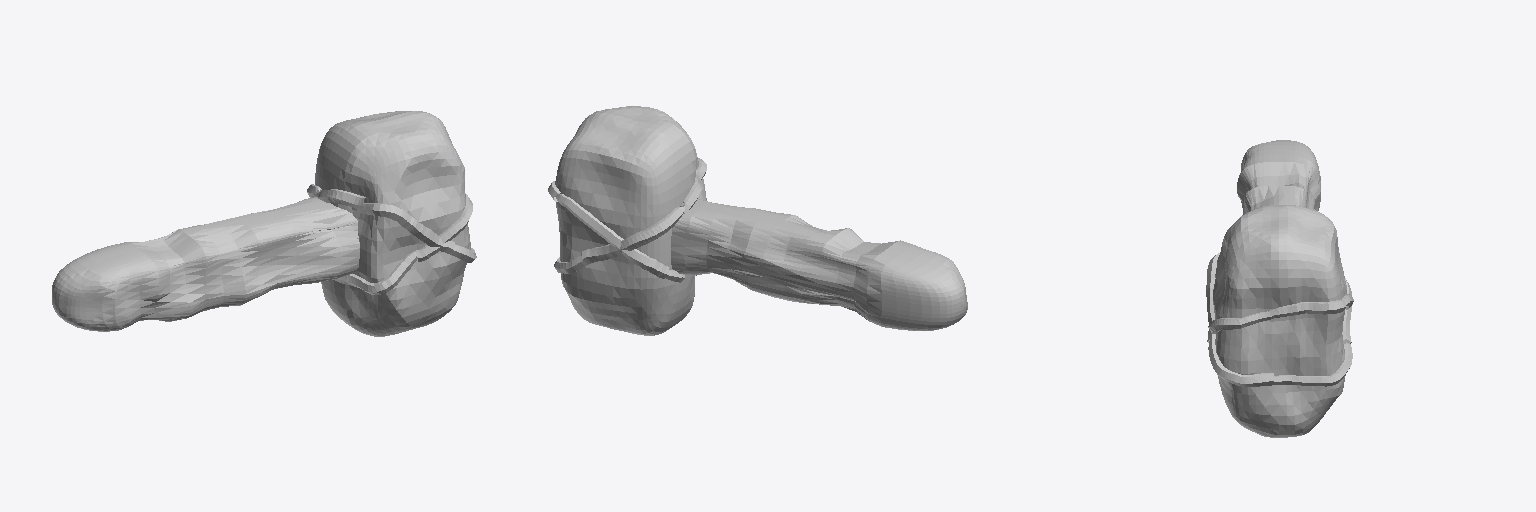
File: hammer.obj
The picture shows the model from 3 angles: view 1: azimuth 30°, elevation 25°; view 2: azimuth 150°, elevation 25°; view 3: azimuth 270°, elevation 25°; orthographic projection.
Parts seen in each view (by area): view 1: hammer pCube11, pCube10 hammer, hammer brush9Main, hammer brush3Main, hammer brush2Main, hammer brush8Main; view 2: pCube10 hammer, hammer pCube11, hammer brush5Main, hammer brush7Main; view 3: pCube10 hammer, hammer pCube11, hammer brush11Main, hammer brush10Main, hammer brush4Main, hammer brush2Main, hammer brush9Main.
Boxes of the visible parts, x1=… form: hammer pCube11: x1=52, y1=197, x2=359, y2=331; pCube10 hammer: x1=315, y1=111, x2=470, y2=336; hammer brush9Main: x1=352, y1=203, x2=454, y2=253; hammer brush3Main: x1=335, y1=250, x2=418, y2=294; hammer brush2Main: x1=416, y1=193, x2=472, y2=261; hammer brush8Main: x1=318, y1=189, x2=365, y2=208; pCube10 hammer: x1=555, y1=106, x2=706, y2=335; hammer pCube11: x1=671, y1=199, x2=967, y2=330; hammer brush5Main: x1=555, y1=193, x2=669, y2=278; hammer brush7Main: x1=581, y1=202, x2=684, y2=262; pCube10 hammer: x1=1213, y1=205, x2=1346, y2=437; hammer pCube11: x1=1237, y1=140, x2=1320, y2=214; hammer brush11Main: x1=1274, y1=343, x2=1352, y2=386; hammer brush10Main: x1=1208, y1=339, x2=1273, y2=386; hammer brush4Main: x1=1268, y1=299, x2=1346, y2=317; hammer brush2Main: x1=1208, y1=311, x2=1273, y2=333; hammer brush9Main: x1=1206, y1=253, x2=1219, y2=342.
Bounding box in the file's own units: 1.96 × 0.975 × 0.6332.